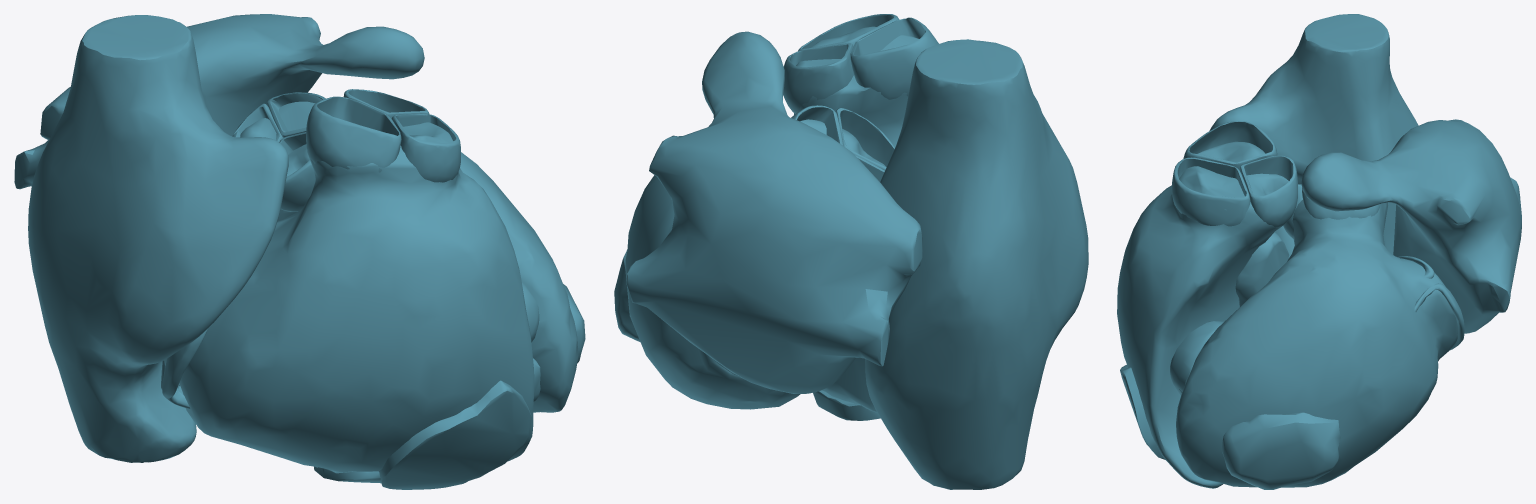
Rendered from heart-interior.glb.
3 views of the same model, side by side, from view 1: azimuth 30°, elevation 25°; view 2: azimuth 150°, elevation 25°; view 3: azimuth 270°, elevation 25° (orthographic). The views are drawn at different scales.
Visible parts, largest first — view 1: FJ2423, FJ2424, FJ2425, FJ2422, FJ2419, FJ2434, FJ2417, FJ2435, FJ2421, FJ2427, FJ2426, FJ2418 (+1 smaller); view 2: FJ2424, FJ2425, FJ2422, FJ2423, FJ2434, FJ2427, FJ2435, FJ2417, FJ2430, FJ2429, FJ2426; view 3: FJ2422, FJ2425, FJ2423, FJ2424, FJ2429, FJ2417, FJ2427, FJ2434, FJ2437, FJ2418, FJ2419, FJ2426 (+1 smaller).
Part boxes in pixels (box(x1,y1,x2,y2)): FJ2423: box(164, 122, 534, 472); FJ2424: box(28, 15, 288, 462); FJ2425: box(14, 14, 424, 189); FJ2422: box(240, 101, 578, 412); FJ2419: box(379, 380, 531, 489); FJ2434: box(306, 96, 401, 172); FJ2417: box(391, 113, 460, 182); FJ2435: box(279, 132, 315, 211); FJ2421: box(162, 327, 208, 409); FJ2427: box(343, 89, 429, 118); FJ2426: box(267, 92, 325, 137); FJ2418: box(522, 282, 540, 401); FJ2424: box(865, 39, 1088, 489); FJ2425: box(627, 31, 922, 393); FJ2422: box(625, 119, 886, 409); FJ2423: box(794, 26, 918, 412); FJ2434: box(850, 17, 938, 99); FJ2427: box(783, 43, 853, 113); FJ2435: box(835, 108, 895, 170); FJ2417: box(798, 14, 899, 51); FJ2430: box(813, 390, 880, 420); FJ2429: box(614, 249, 640, 341); FJ2426: box(791, 105, 842, 145); FJ2422: box(1176, 200, 1457, 487); FJ2425: box(1301, 119, 1521, 333); FJ2423: box(1117, 141, 1294, 488); FJ2424: box(1209, 14, 1418, 254); FJ2429: box(1221, 412, 1340, 489); FJ2417: box(1171, 157, 1250, 226); FJ2427: box(1240, 155, 1297, 227); FJ2434: box(1183, 121, 1277, 171); FJ2437: box(1235, 232, 1289, 306); FJ2418: box(1170, 321, 1223, 395); FJ2419: box(1120, 364, 1165, 459); FJ2426: box(1302, 188, 1380, 219).
Bounding box in the file's own units: 1.09 × 0.9908 × 1.02.
